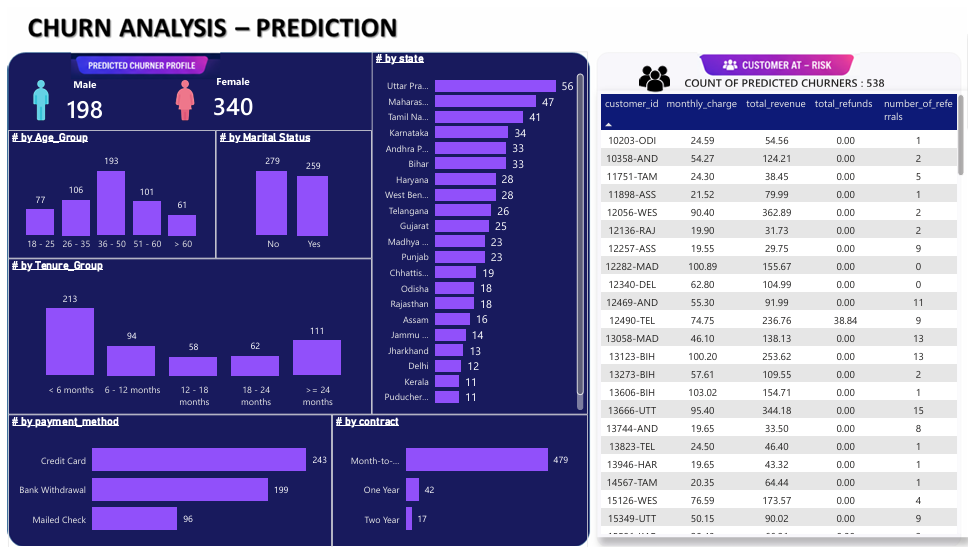

Layout of this report page (visuals, bound fields, positions):
{"tool":"powerbi","page":{"name":"Prediction","canvas":[1280,720],"ordinal":2},"visuals":[{"type":"tableEx","fields":{"Values":["Predictions.customer_id","Predictions.monthly_charge","Predictions.total_revenue","Predictions.total_refunds","Predictions.number_of_referrals"]},"box":[785.3,109.8,494.8,596.3],"z":0},{"type":"cardVisual","fields":{"Data":["tbl_measures.Predicted Churners Title"]},"box":[872.9,73.7,325,48],"z":1000},{"type":"cardVisual","fields":{"Data":["tbl_measures.Count Predicted Churner"]},"box":[243.2,76.4,114,86.2],"z":2000},{"type":"cardVisual","fields":{"Data":["tbl_measures.Count Predicted Churner"]},"box":[44.5,80.6,116.8,85],"z":3000},{"type":"clusteredColumnChart","fields":{"Category":["Age_Group.Age_Group"],"Y":["CountNonNull(Predictions.customer_id)"]},"box":[0,162.6,276.6,171],"z":4000},{"type":"clusteredColumnChart","fields":{"Category":["Predictions.married"],"Y":["CountNonNull(Predictions.customer_id)"]},"box":[276.6,162.6,208.5,171],"z":5000},{"type":"clusteredColumnChart","fields":{"Category":["Tenure.Tenure_Group"],"Y":["CountNonNull(Predictions.customer_id)"]},"box":[0,333.6,485.1,208.5],"z":6000},{"type":"clusteredBarChart","fields":{"Category":["Predictions.payment_method"],"Y":["CountNonNull(Predictions.customer_id)"]},"box":[0,542.1,432.3,177.9],"z":7000},{"type":"clusteredBarChart","fields":{"Category":["Predictions.contract"],"Y":["CountNonNull(Predictions.customer_id)"]},"box":[432.3,542.1,340.5,177.9],"z":8000},{"type":"clusteredBarChart","fields":{"Category":["Predictions.state"],"Y":["CountNonNull(Predictions.customer_id)"]},"box":[485.1,58.4,287.7,483.7],"z":9000},{"type":"image","box":[15.3,91.7,58.4,62.5],"z":10000},{"type":"image","box":[205.7,91.7,61.2,62.5],"z":11000},{"type":"image","box":[824.2,73.7,76.4,41.7],"z":12000}]}

Visuals, with their boxes in screenshot pixels (x1, y1, x2, y2), scaled from the page's 1280x720 canvas onto the 971x547 screenshot:
tableEx - Predictions.customer_id x Predictions.monthly_charge: x1=596, y1=83, x2=970, y2=536
cardVisual - tbl_measures.Predicted Churners Title: x1=662, y1=56, x2=909, y2=92
cardVisual - tbl_measures.Count Predicted Churner: x1=184, y1=58, x2=271, y2=124
cardVisual - tbl_measures.Count Predicted Churner: x1=34, y1=61, x2=122, y2=126
clusteredColumnChart - Age_Group.Age_Group x CountNonNull(Predictions.customer_id): x1=0, y1=124, x2=210, y2=253
clusteredColumnChart - Predictions.married x CountNonNull(Predictions.customer_id): x1=210, y1=124, x2=368, y2=253
clusteredColumnChart - Tenure.Tenure_Group x CountNonNull(Predictions.customer_id): x1=0, y1=253, x2=368, y2=412
clusteredBarChart - Predictions.payment_method x CountNonNull(Predictions.customer_id): x1=0, y1=412, x2=328, y2=546
clusteredBarChart - Predictions.contract x CountNonNull(Predictions.customer_id): x1=328, y1=412, x2=586, y2=546
clusteredBarChart - Predictions.state x CountNonNull(Predictions.customer_id): x1=368, y1=44, x2=586, y2=412
image: x1=12, y1=70, x2=56, y2=117
image: x1=156, y1=70, x2=202, y2=117
image: x1=625, y1=56, x2=683, y2=88
